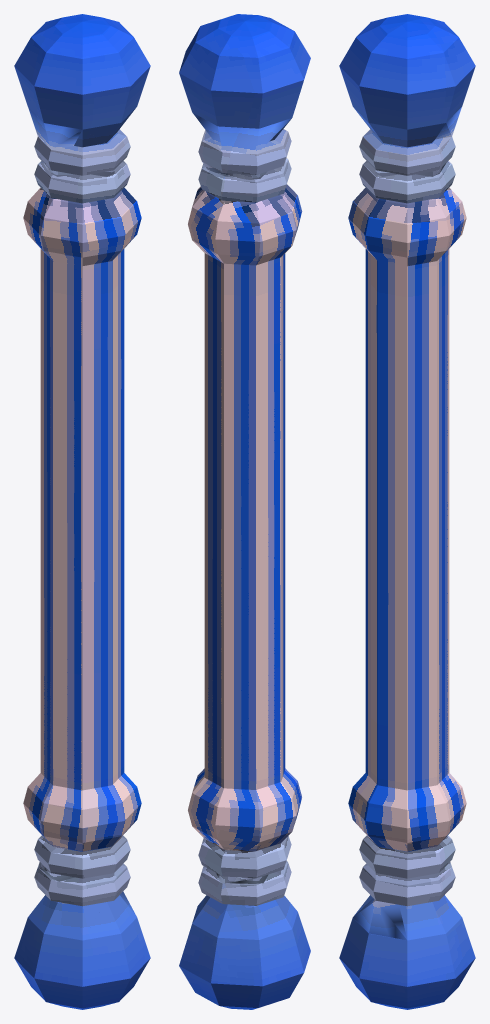
File: item_bubble_staff.glb
The picture shows the model from 3 angles, left to right: view 1: azimuth 90°, elevation 25°; view 2: azimuth 150°, elevation 25°; view 3: azimuth 270°, elevation 25°; orthographic projection.
Visible parts, largest first — view 1: climaTact; view 2: climaTact; view 3: climaTact.
Part boxes in pixels (x1,y1,x2,y2): climaTact: (14, 14, 150, 1009); climaTact: (179, 14, 310, 1009); climaTact: (339, 14, 475, 1009).
Bounding box in the file's own units: 0.0742 × 0.5877 × 0.0742.
Materials: 1 (1 with a texture image).
